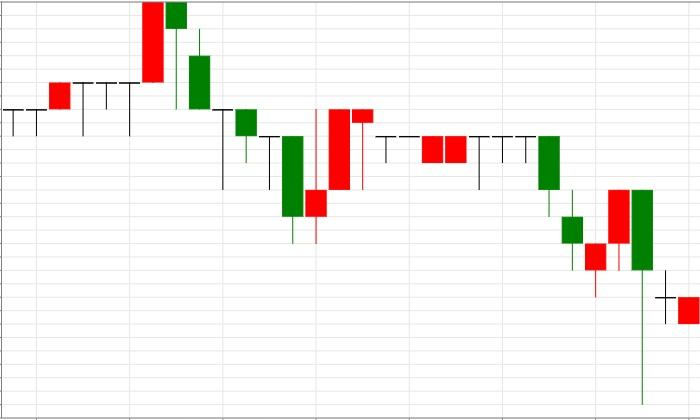hanging_man_fall: (2, 1, 188, 136), (281, 109, 374, 244)
